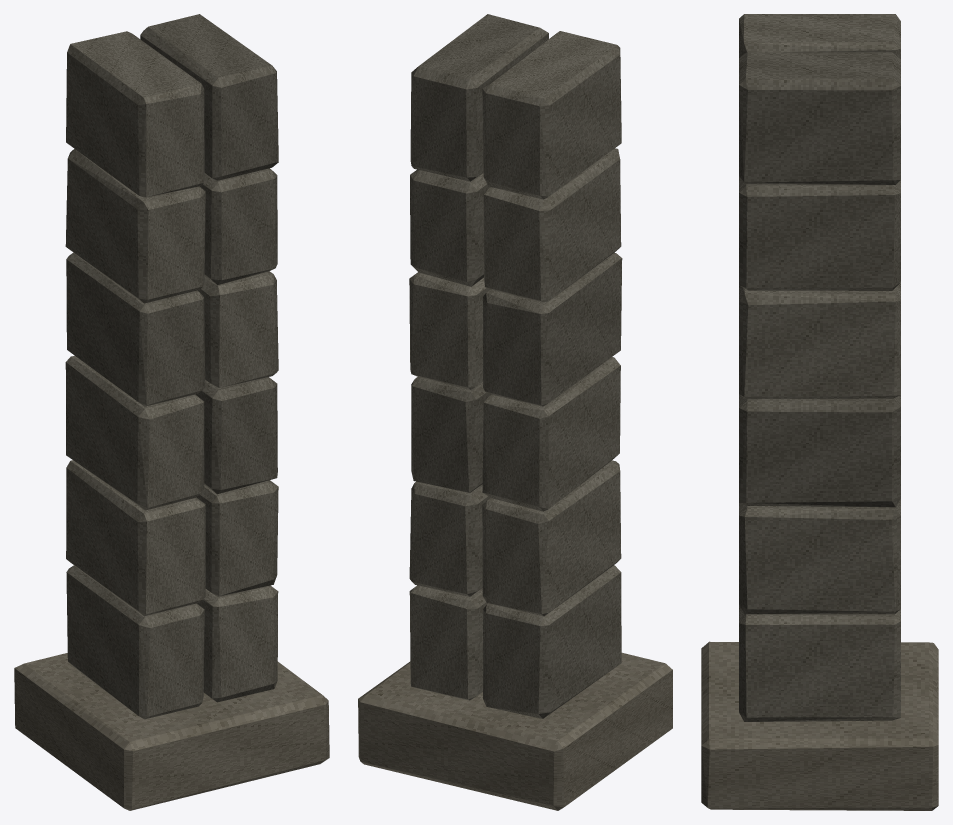
The model's file is env_ruin_pillars_08_split_square.glb.
The picture shows the model from 3 angles, left to right: view 1: azimuth 30°, elevation 25°; view 2: azimuth 150°, elevation 25°; view 3: azimuth 270°, elevation 25°; orthographic projection. The views are drawn at different scales.
Size of the model in its own units: 0.62 by 2 by 0.6.
1 material, 1 textured.
